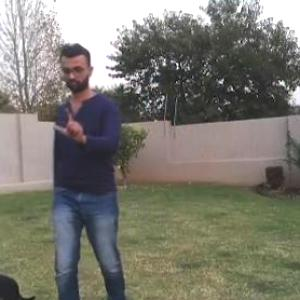land_hand: (51, 104, 87, 151)
